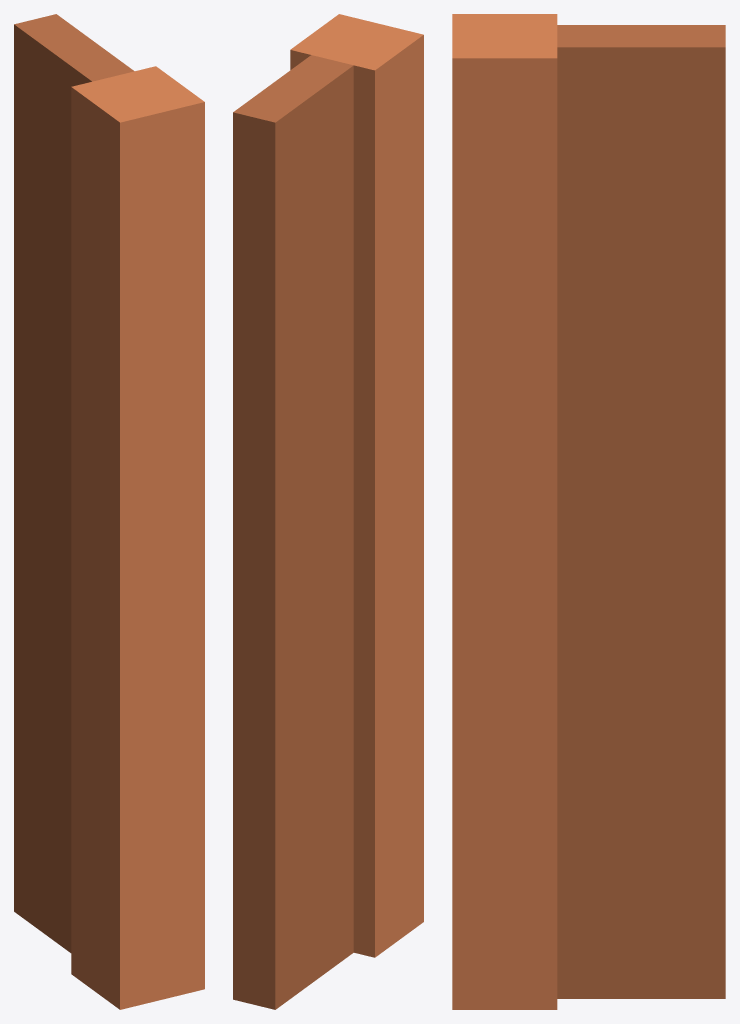
Rendered from wallWoodSide.obj.
The picture shows the model from 3 angles, left to right: view 1: azimuth 30°, elevation 25°; view 2: azimuth 150°, elevation 25°; view 3: azimuth 270°, elevation 25°; orthographic projection. The views are drawn at different scales.
Parts seen in each view (by area): view 1: wallWoodSide; view 2: wallWoodSide; view 3: wallWoodSide.
Part boxes in pixels (left/top/right/bottom): wallWoodSide: left=14, top=14, right=204, bottom=1009; wallWoodSide: left=233, top=14, right=423, bottom=1009; wallWoodSide: left=452, top=14, right=725, bottom=1009.
Size of the model in its own units: 0.1 by 1 by 0.26.
